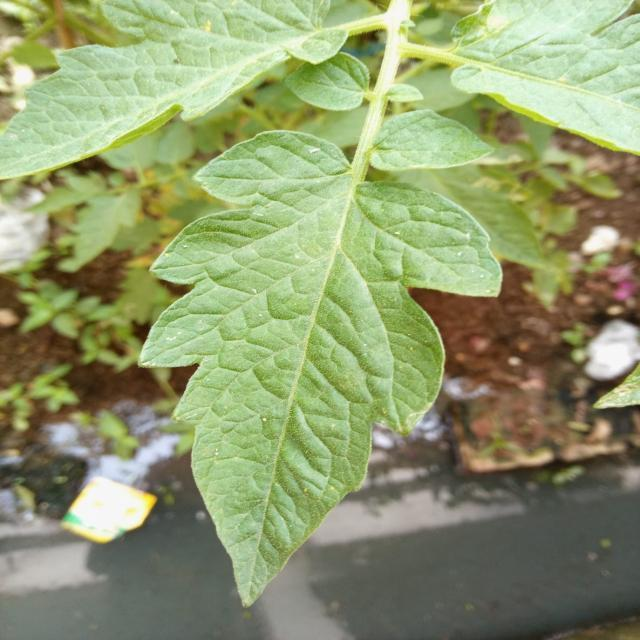Healthy: (22, 83, 526, 632)
